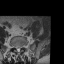CCS_normal: (17, 45, 19, 53)
LFS_normal: (21, 43, 23, 49)
LLS_normal: (19, 45, 21, 52)
RFS_stenosis: (13, 43, 15, 49)
RLS_normal: (15, 44, 17, 51)
